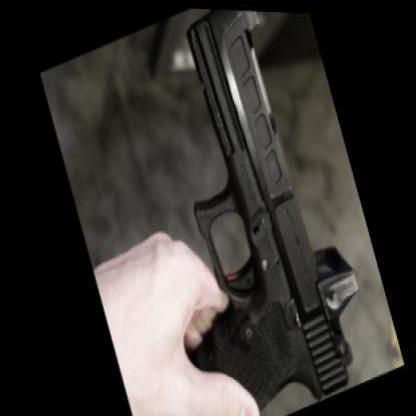pistol: (72, 1, 382, 413)
